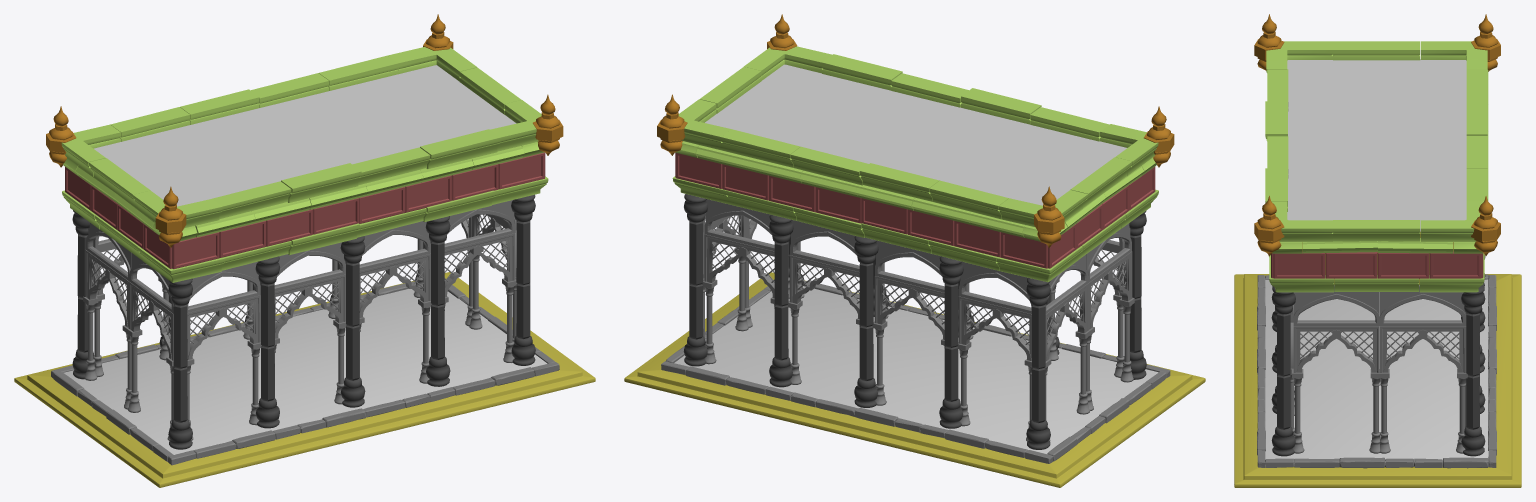
File: SM_building_palace_01.fbx
3 renders of one model, left to right at view 1: azimuth 30°, elevation 25°; view 2: azimuth 150°, elevation 25°; view 3: azimuth 270°, elevation 25°, orthographic.
Parts seen in each view (by area): view 1: Box199; view 2: Box199; view 3: Box199.
Part boxes in pixels (<box>): Box199: <box>14,14,595,487</box>; Box199: <box>624,14,1205,487</box>; Box199: <box>1234,14,1521,487</box>.
Size of the model in its own units: 540 by 333 by 312.
